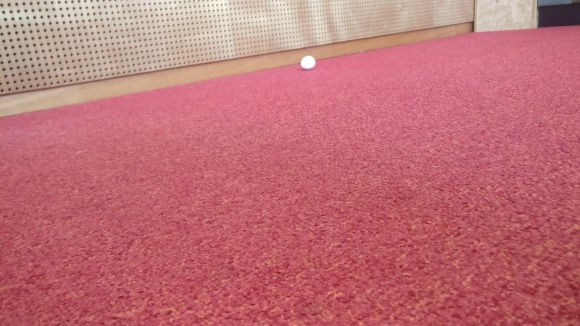egg: (300, 55, 316, 70)
